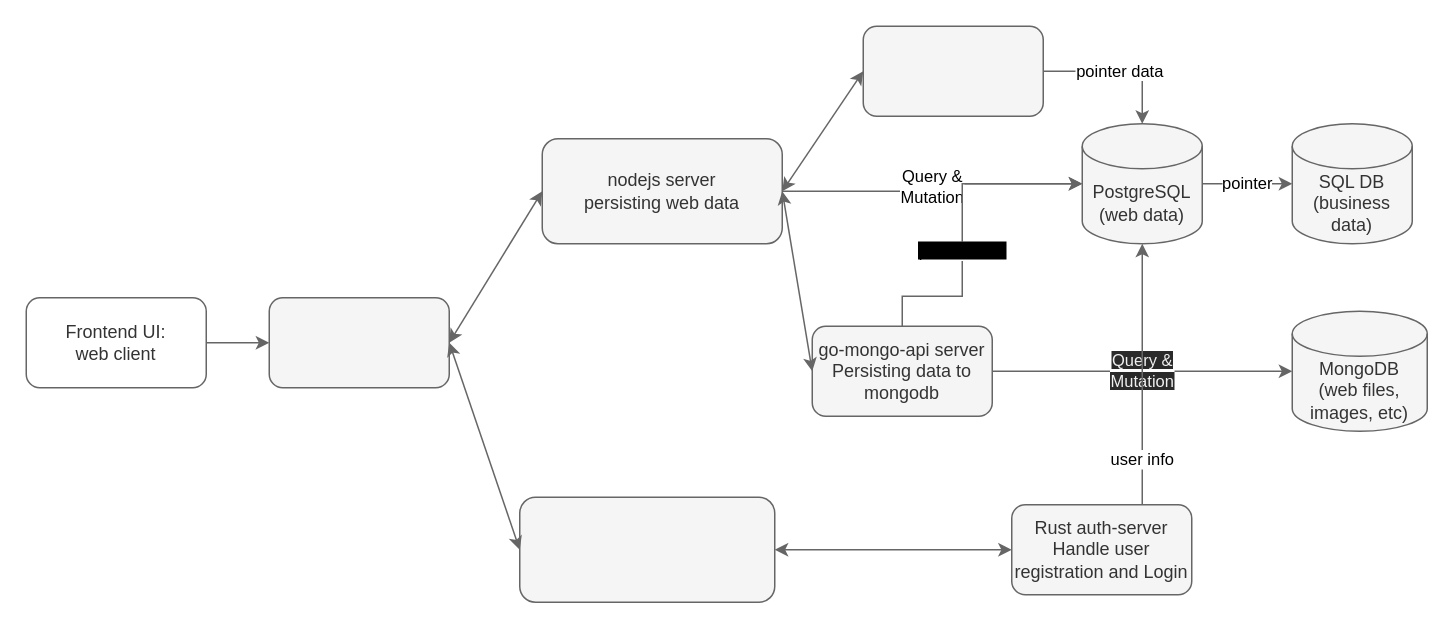
Some shapes in this 1454 by 629 pixel diagram are drawn without their labels. The centre of each missing label's shape, as x and y in pixels:
"API-gateway Mapping different web request to corresponding services" goes at pixel 646 549.
"Golang server: forward API to nodejs-server or API-gateway" goes at pixel 358 342.
"python server ETL tool for Excel and CSV" goes at pixel 952 70.
